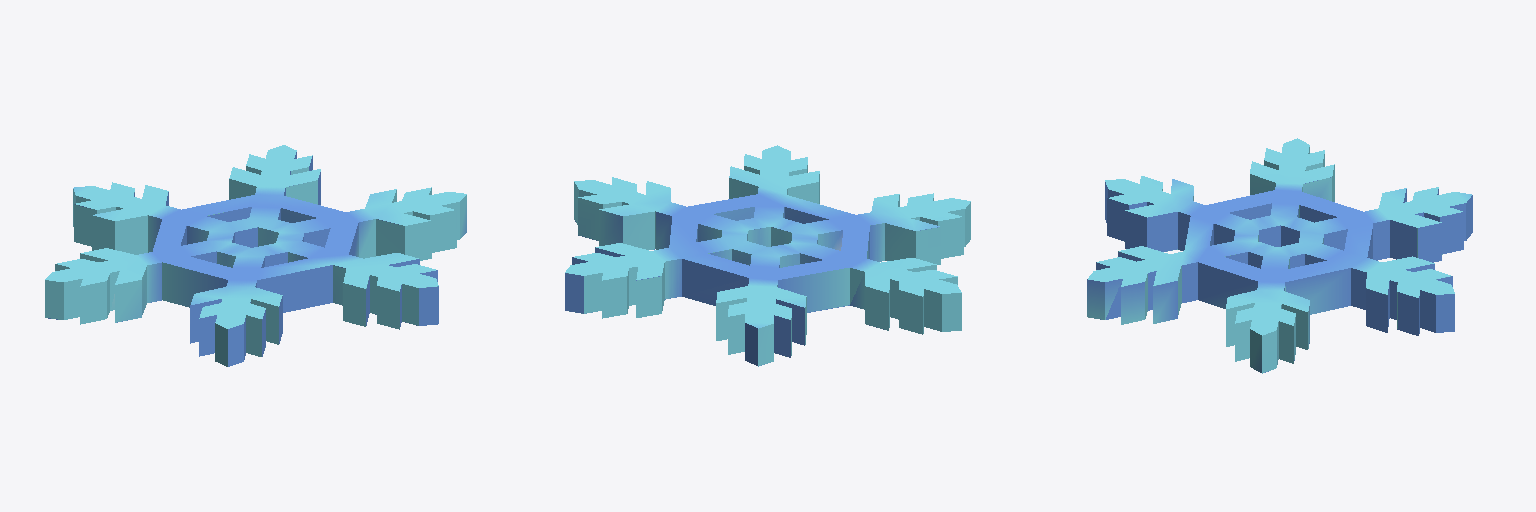
The picture shows the model from 3 angles: view 1: azimuth 30°, elevation 25°; view 2: azimuth 150°, elevation 25°; view 3: azimuth 270°, elevation 25°; orthographic projection.
Parts seen in each view (by area): view 1: Snowflakesat; view 2: Snowflakesat; view 3: Snowflakesat.
Boxes of the visible parts, x1=… form: Snowflakesat: x1=45, y1=145, x2=466, y2=366; Snowflakesat: x1=565, y1=145, x2=970, y2=366; Snowflakesat: x1=1087, y1=138, x2=1472, y2=373.
Bounding box in the file's own units: 5.84 × 0.5242 × 4.81.
Materials: 1 (1 with a texture image).